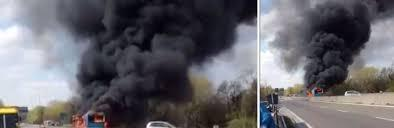smoke: (16, 1, 259, 126), (271, 0, 394, 95)
